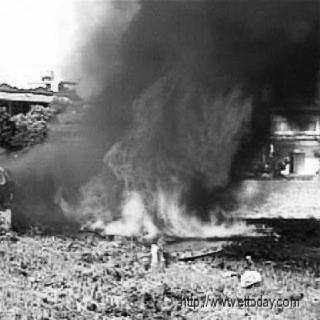Smoke: (96, 5, 314, 111)
